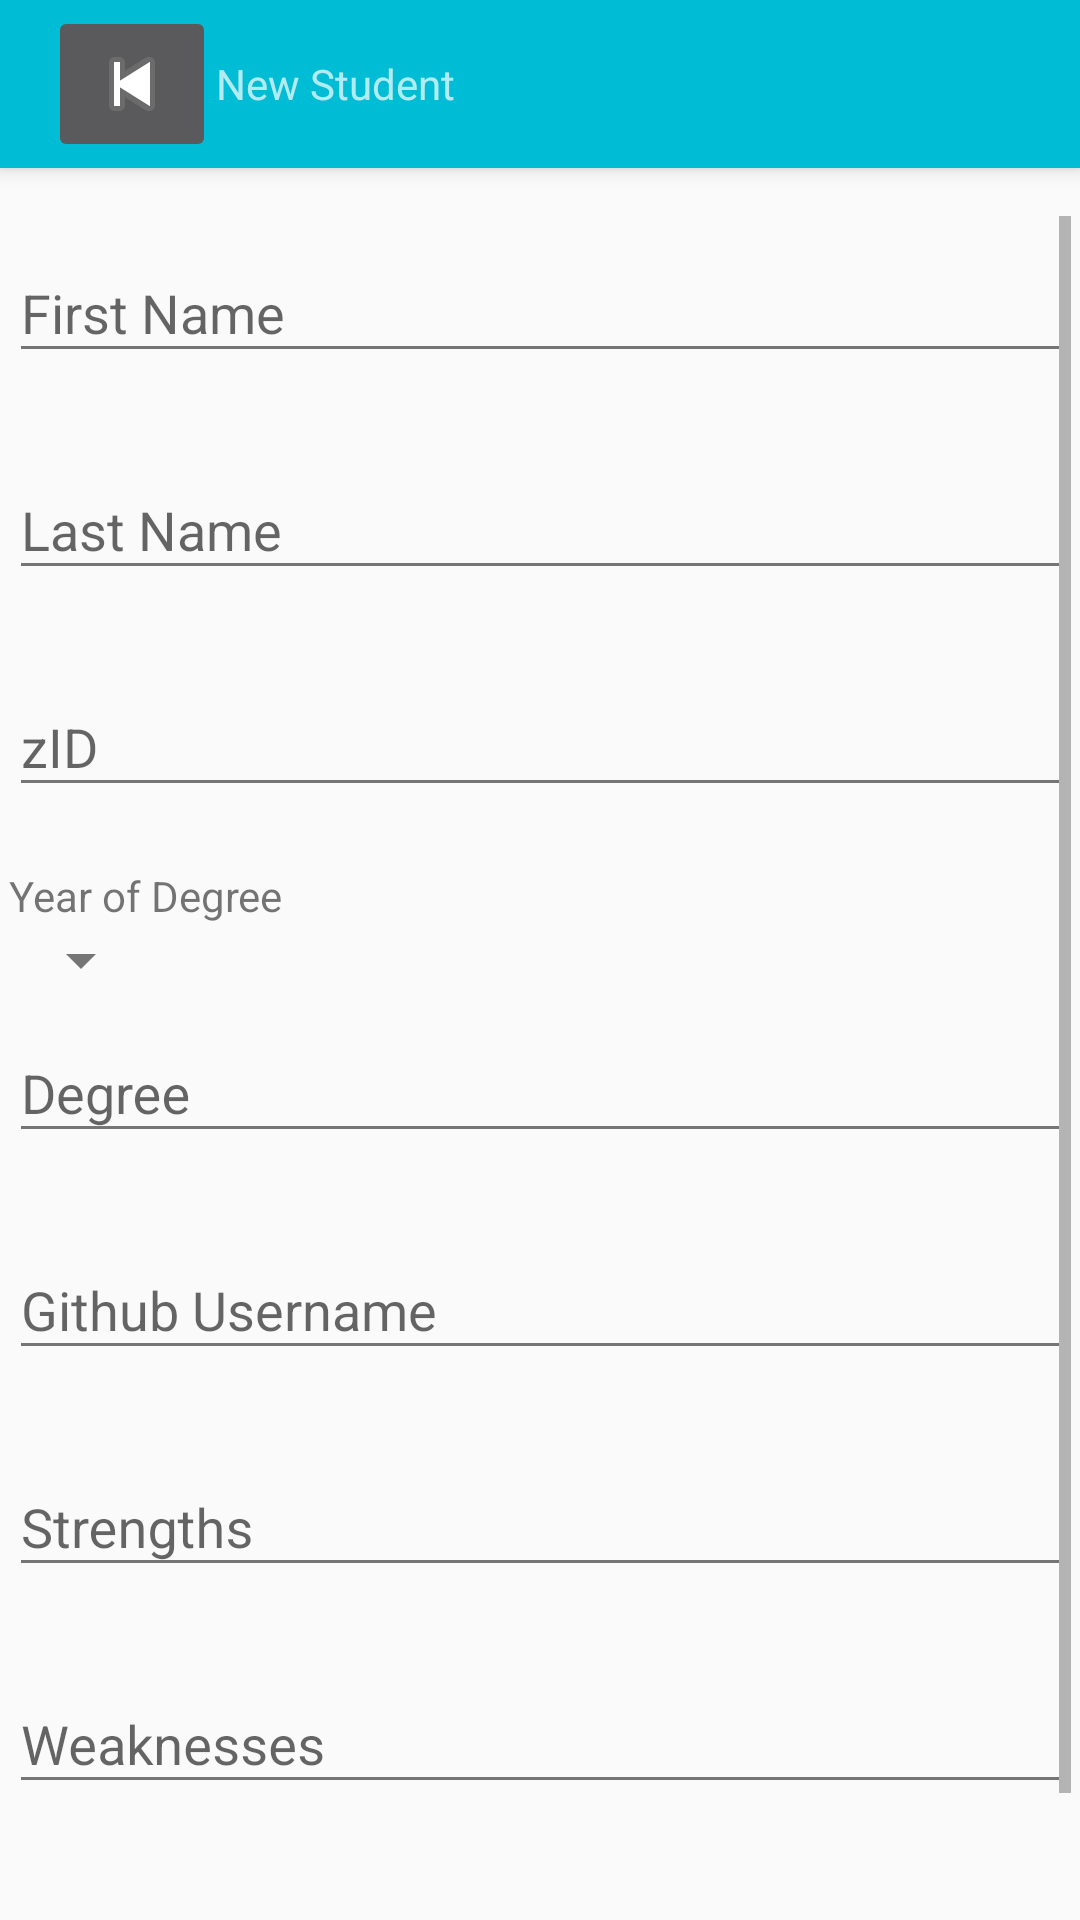

Screen size 1080px x 1920px. Icon name, then its box in pixels as (x1,y1,x2,y2):
previous: (60,24,204,144)
